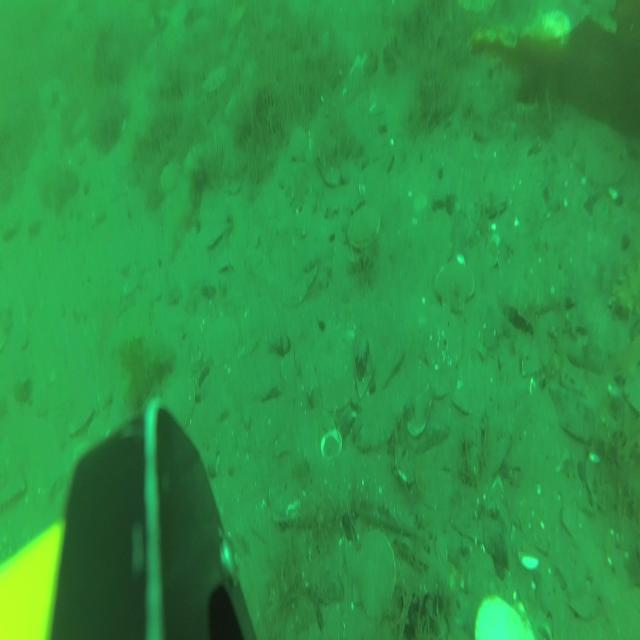scallop: (348, 529, 398, 619), (576, 118, 628, 189), (316, 330, 358, 416), (424, 308, 466, 371), (160, 374, 198, 435), (434, 260, 476, 315), (205, 314, 239, 366), (528, 11, 571, 47), (349, 209, 382, 253), (571, 577, 601, 620), (286, 124, 310, 163), (204, 65, 232, 98), (159, 159, 181, 195)
